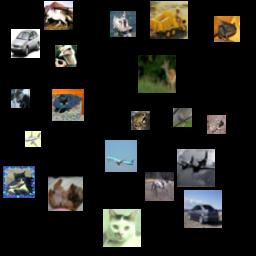airplane: (177, 149, 215, 187), (105, 140, 137, 172), (25, 131, 41, 147)
automobile: (184, 190, 222, 228), (11, 29, 40, 58)
bird: (55, 45, 77, 67), (173, 108, 192, 127)
cat: (103, 209, 141, 247), (52, 89, 84, 121), (3, 166, 35, 198), (11, 89, 30, 108)
deer: (138, 55, 176, 93)
dog: (48, 176, 83, 211)
frog: (214, 16, 240, 42), (207, 115, 226, 134), (131, 111, 150, 130)
ship: (110, 11, 136, 37)
truck: (150, 1, 188, 39)
